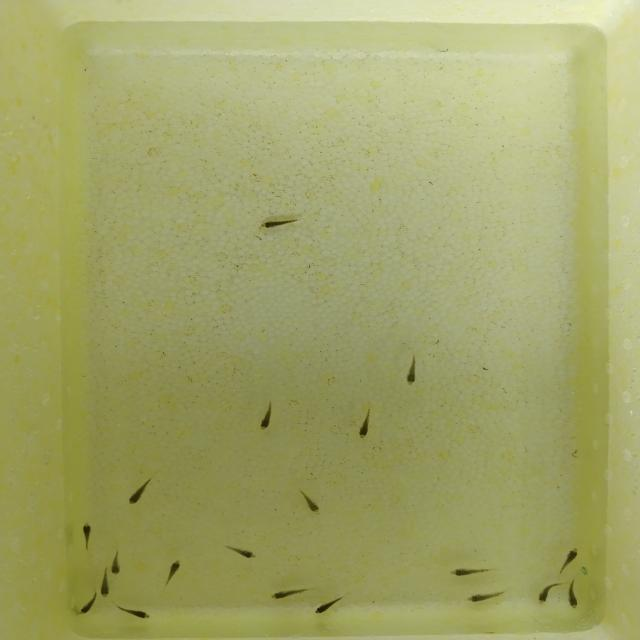fingerling: (220, 541, 262, 561), (120, 602, 159, 623), (296, 490, 324, 518), (311, 596, 346, 617), (447, 564, 495, 578), (267, 586, 308, 602), (557, 544, 582, 570), (104, 549, 129, 575), (127, 477, 146, 510), (164, 555, 182, 588), (254, 218, 304, 229), (96, 569, 116, 596), (258, 404, 276, 433), (567, 584, 587, 610), (80, 519, 96, 551), (357, 409, 372, 439), (403, 355, 417, 385), (466, 591, 508, 601), (75, 600, 99, 617), (539, 584, 557, 604)
